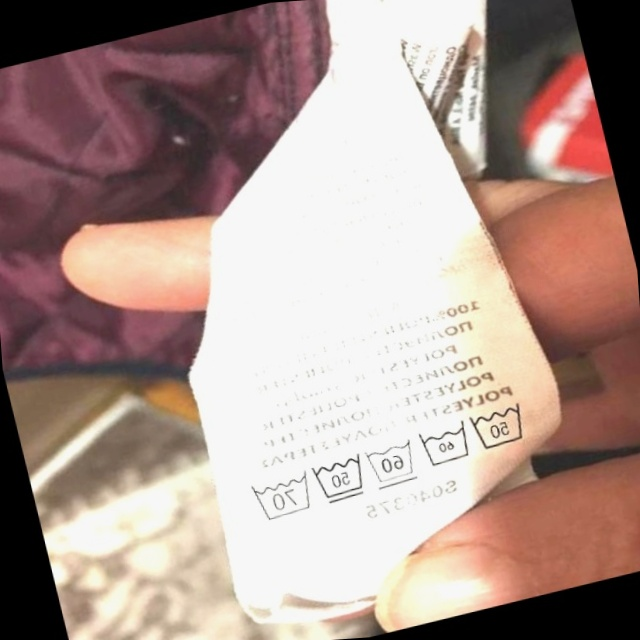50C: (462, 393, 536, 458), (306, 448, 373, 510)
60C: (359, 433, 423, 494), (412, 416, 477, 474)
70C: (243, 467, 317, 527)
